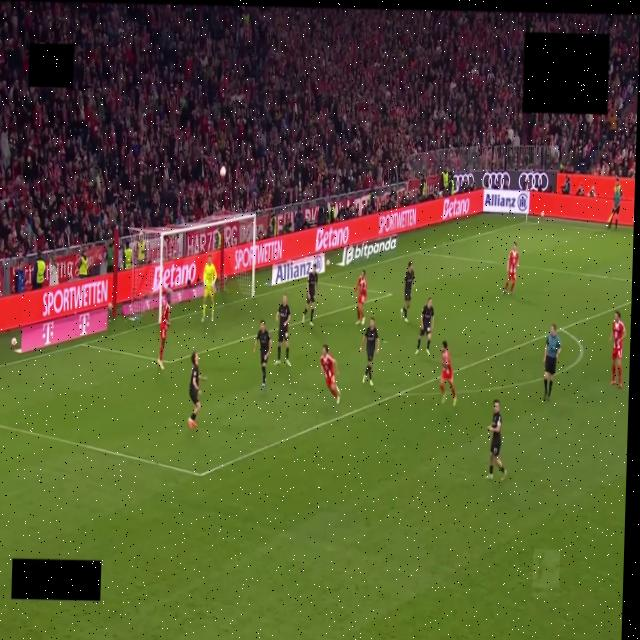ball: (220, 165, 226, 177)
player: (486, 399, 506, 480), (188, 353, 206, 428), (360, 318, 379, 386), (610, 311, 626, 388), (320, 344, 340, 404), (254, 320, 271, 389), (275, 295, 291, 366), (416, 298, 434, 356), (158, 290, 171, 370), (440, 341, 456, 405), (202, 255, 217, 322), (303, 264, 318, 326), (503, 243, 518, 295), (401, 261, 414, 321), (355, 270, 367, 325)
referee: (544, 324, 560, 400)
